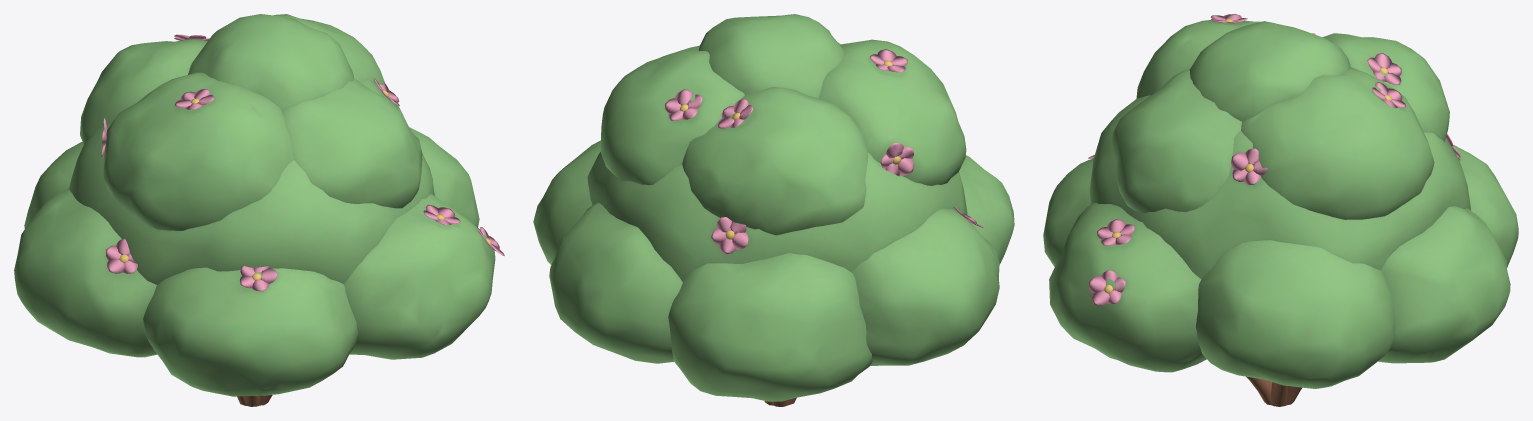
The model's file is bush.glb.
3 renders of one model, left to right at view 1: azimuth 30°, elevation 25°; view 2: azimuth 150°, elevation 25°; view 3: azimuth 270°, elevation 25°, orthographic.
Parts seen in each view (by area): view 1: bush_body; view 2: bush_body; view 3: bush_body.
Boxes of the visible parts, bbox=[...] form: bush_body: bbox=[14, 14, 504, 406]; bush_body: bbox=[533, 14, 1014, 406]; bush_body: bbox=[1043, 14, 1518, 406].
Bounding box in the file's own units: 1.33 × 1.09 × 1.26.
1 material, 1 textured.
